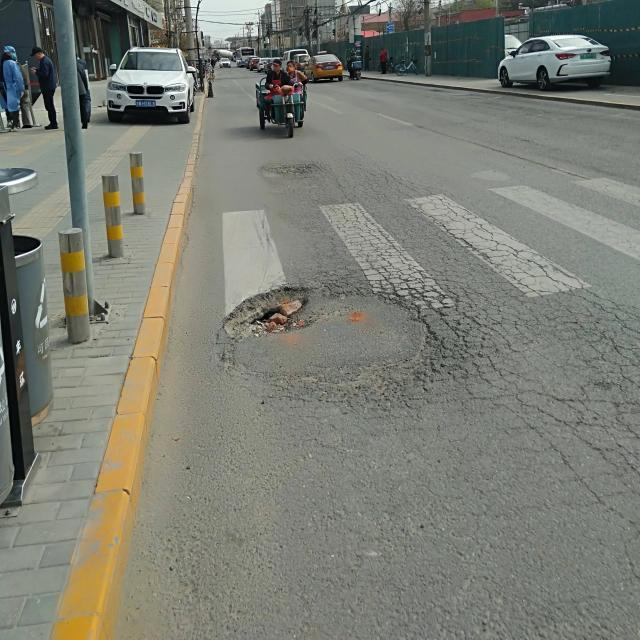pothole: (215, 289, 433, 386), (260, 164, 321, 180)
